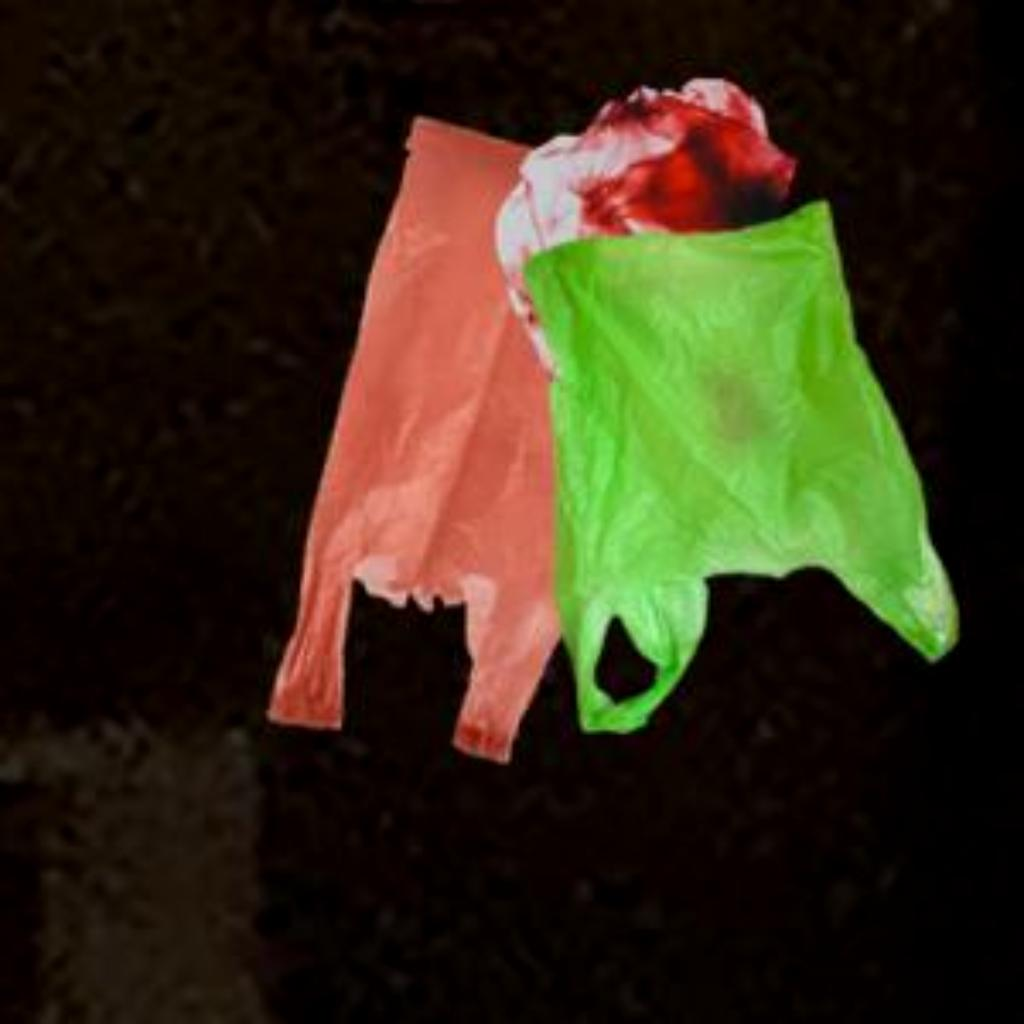garbage: (230, 87, 674, 794), (532, 143, 966, 748), (488, 51, 785, 352)
